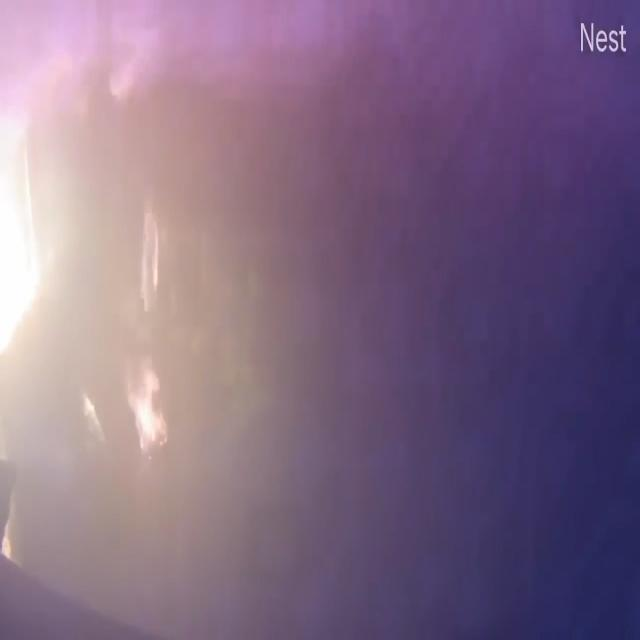Fire: (2, 49, 170, 566)
